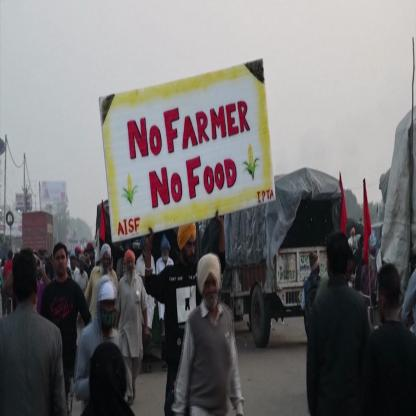BANNER: (99, 60, 275, 244)
